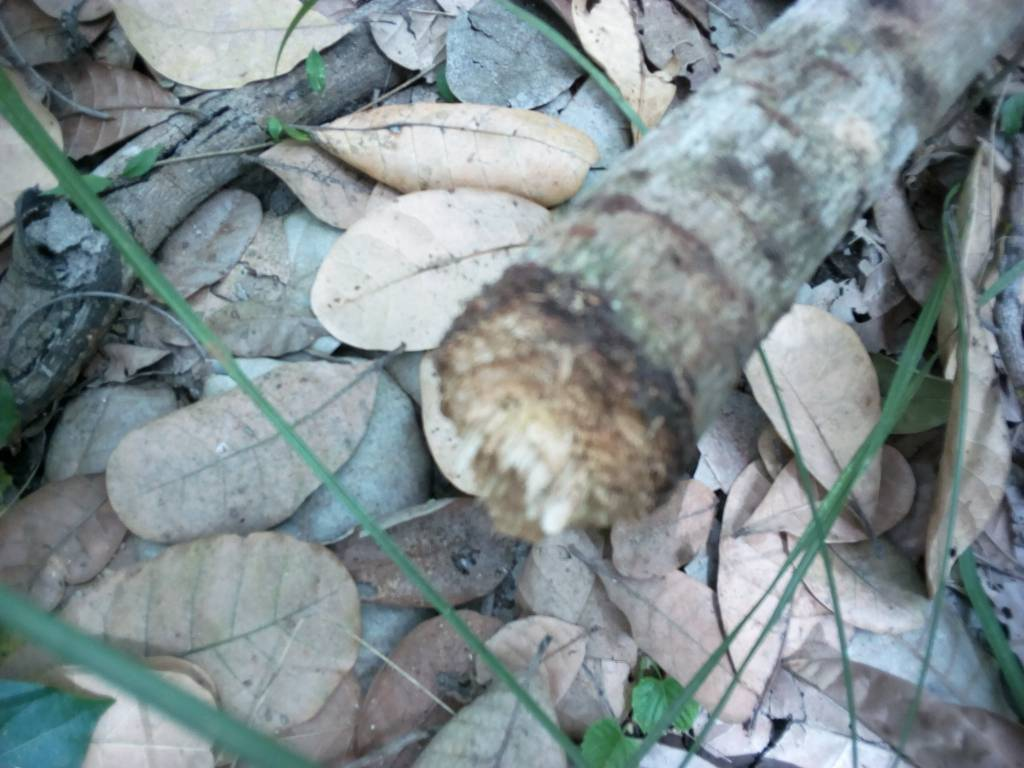Analepse trifasciata: (418, 271, 747, 549)
